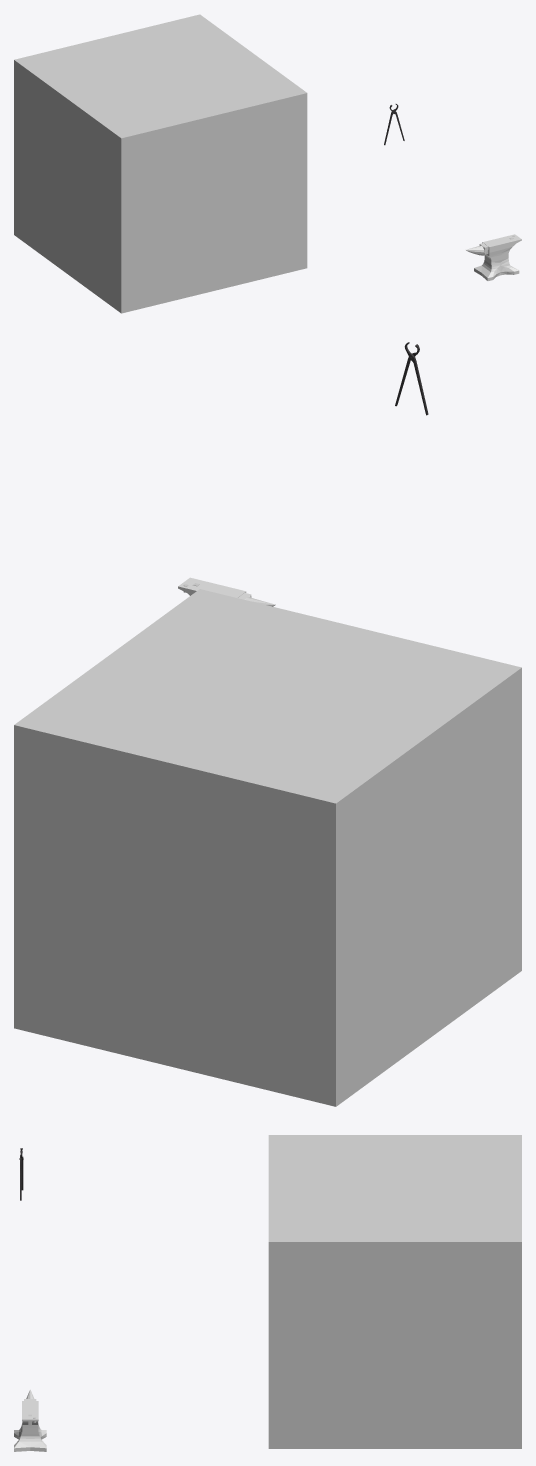
Rendered from tongopen.dae.
The picture shows the model from 3 angles, top to bottom: view 1: azimuth 30°, elevation 25°; view 2: azimuth 150°, elevation 25°; view 3: azimuth 270°, elevation 25°; orthographic projection. The views are drawn at different scales.
Visible parts, largest first — view 1: Cube_004, Cube_002; view 2: Cube_004; view 3: Cube_004, Cube_002.
Boxes of the visible parts, x1,y1,x2,y2 form: Cube_004: (14, 14, 307, 313); Cube_002: (466, 234, 521, 280); Cube_004: (14, 589, 521, 1106); Cube_004: (268, 1135, 521, 1448); Cube_002: (14, 1389, 46, 1451).
Bounding box in the file's own units: 3.18 × 4.01 × 2.51.
1 material, 1 textured.
